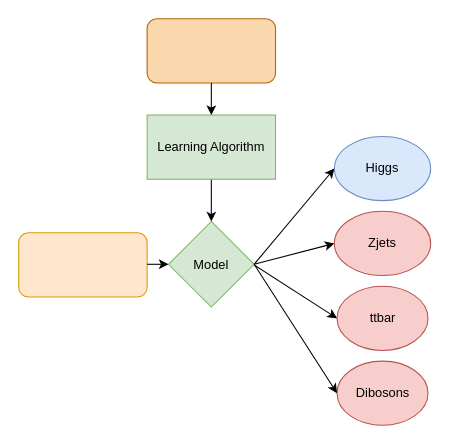
Image size: 449x444. Some labels were removed from this diagram. Each missing label, with the centre of its shape:
"Input Variables" goes at (82,264).
"Training Set" goes at (211,50).
